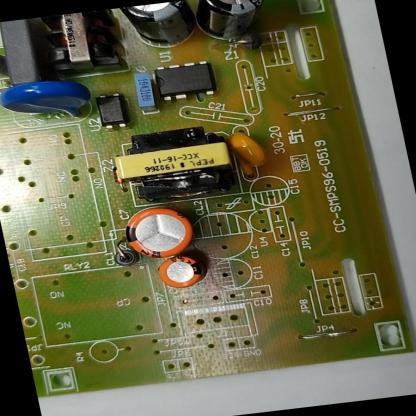Cap1: (116, 200, 202, 264)
Cap2: (151, 249, 211, 293)
Cap3: (115, 0, 203, 53)
Cap4: (188, 0, 282, 50)
MOSFET: (147, 54, 223, 107)
Mov: (0, 74, 101, 129)
Resistor: (0, 44, 16, 84)
Transformer: (107, 121, 242, 208), (36, 8, 131, 80)
